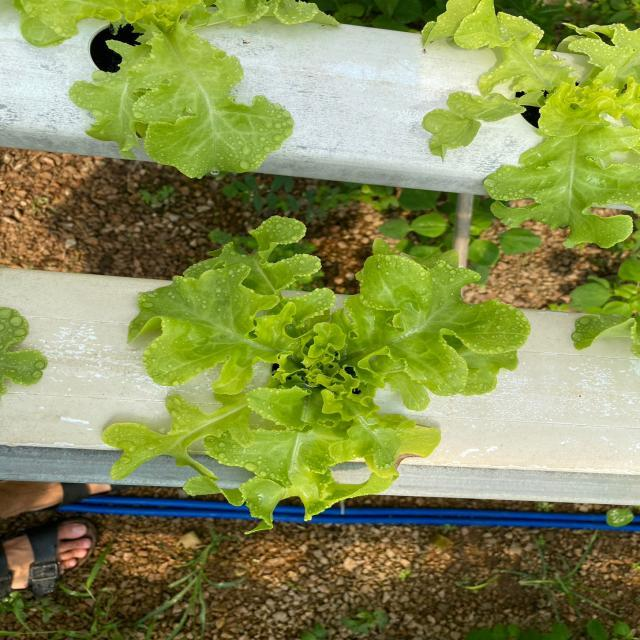Lettuce-Not-Ready-to-Harvest: (100, 218, 531, 529), (25, 0, 337, 180), (421, 0, 640, 250)
